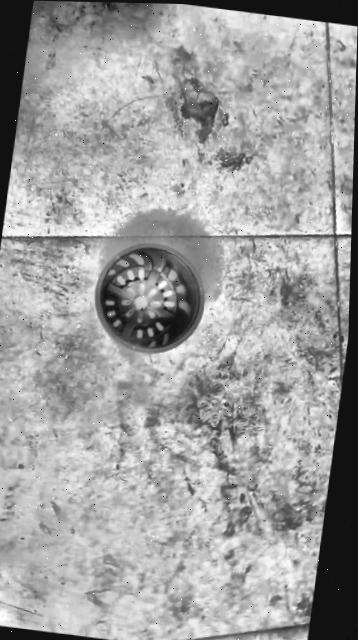pot: (87, 236, 211, 356)
